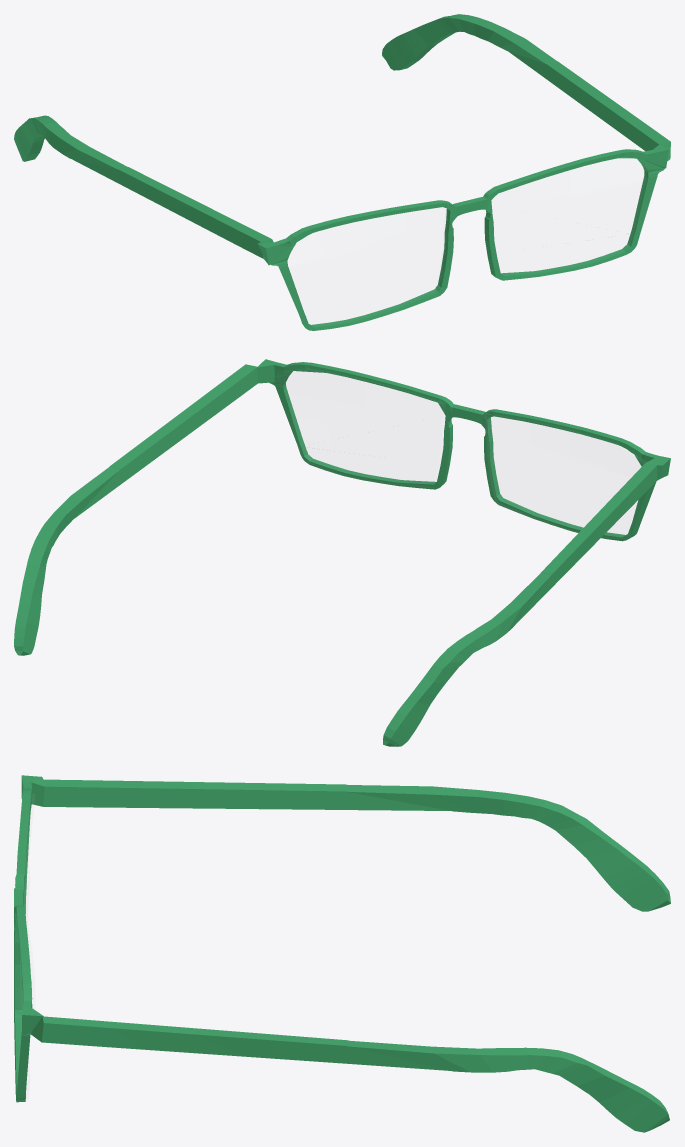
Rendered from 2-Green.glb.
3 views of the same model, one above another, from view 1: azimuth 30°, elevation 25°; view 2: azimuth 150°, elevation 25°; view 3: azimuth 270°, elevation 25° (orthographic). The views are drawn at different scales.
Visible parts, largest first — view 1: frameEnd.001; view 2: frameEnd.001; view 3: frameEnd.001.
Part boxes in pixels (x1,y1,x2,y2): frameEnd.001: (14,14,670,330); frameEnd.001: (14,359,670,746); frameEnd.001: (14,775,670,1132).
Bounding box in the file's own units: 2.41 × 0.5735 × 2.5.
